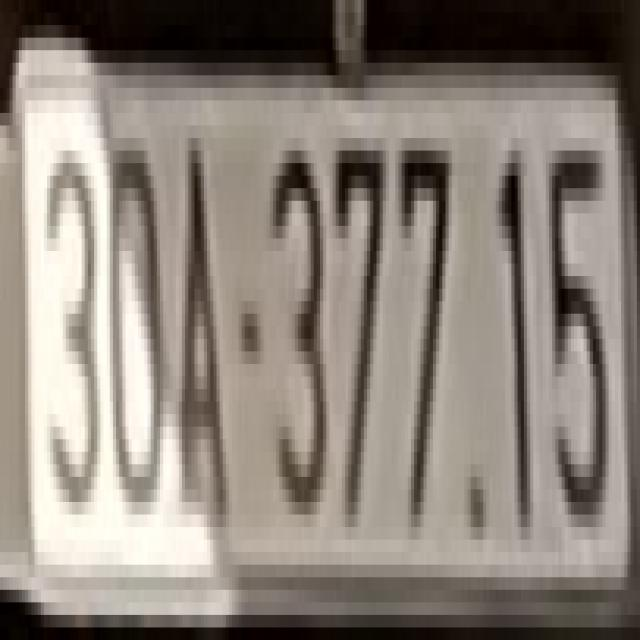0: (107, 126, 163, 514)
1: (499, 150, 533, 540)
3: (41, 138, 100, 515), (270, 138, 326, 515)
5: (546, 138, 609, 527)
7: (398, 138, 452, 527), (332, 138, 382, 527)
A: (176, 126, 232, 540)
